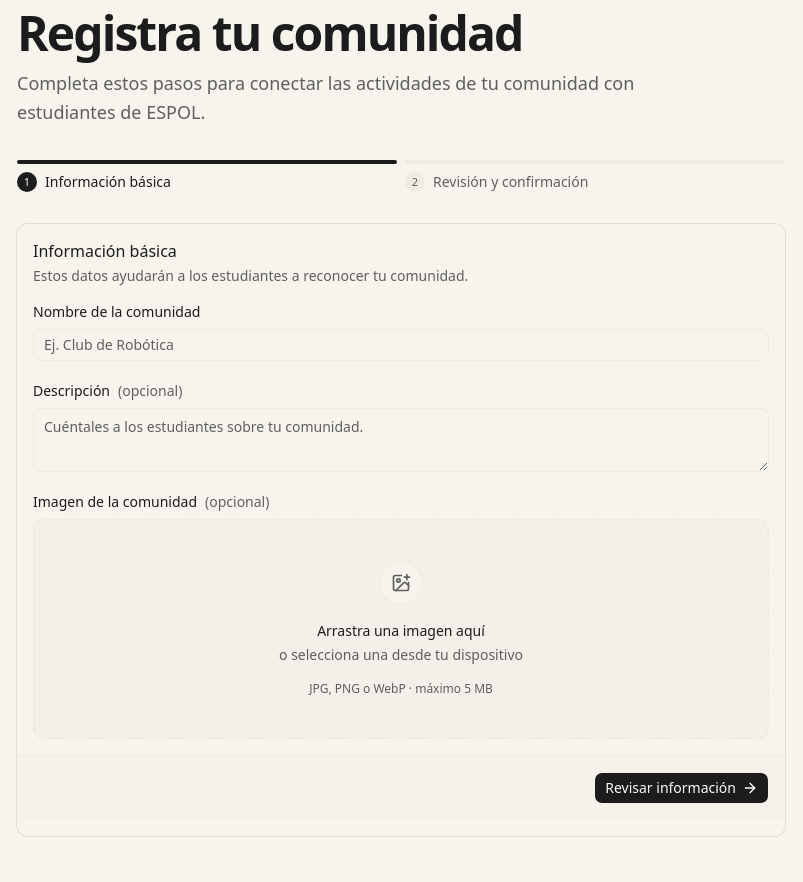
community onboarding page › validates the community details before moving to confirmation
This screenshot has width=803, height=882.
(page scrolled)
Step 1. Click the button "Revisar información" → [682, 788], box left=594, top=772, right=769, bottom=804
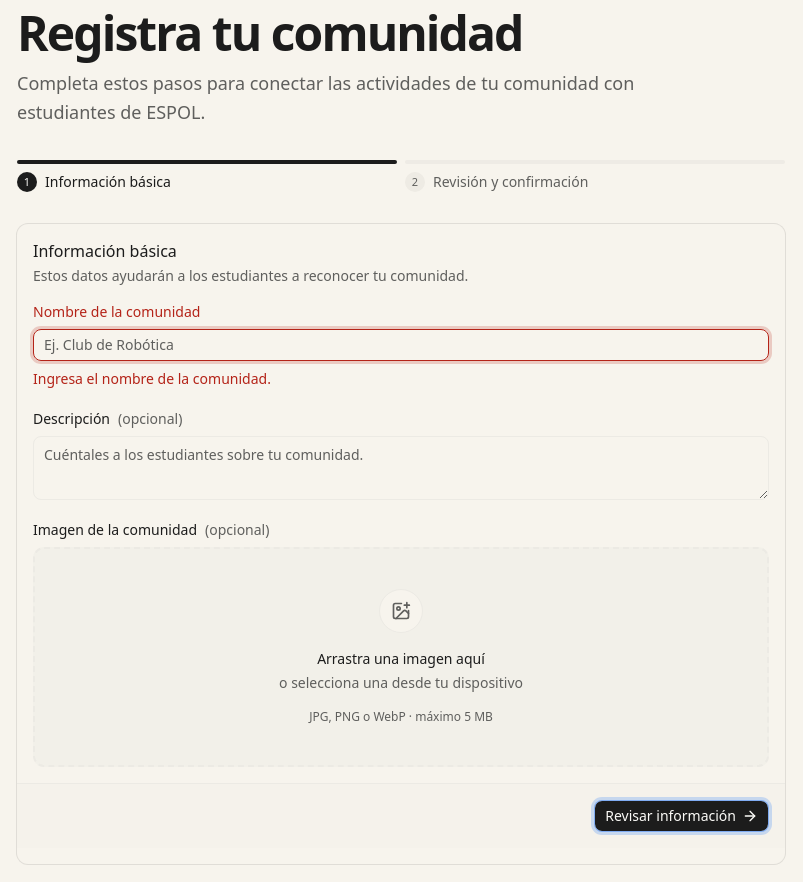
Expected: the text "Ingresa el nombre de la comunidad." is shown, left=33, top=369, right=271, bottom=388
